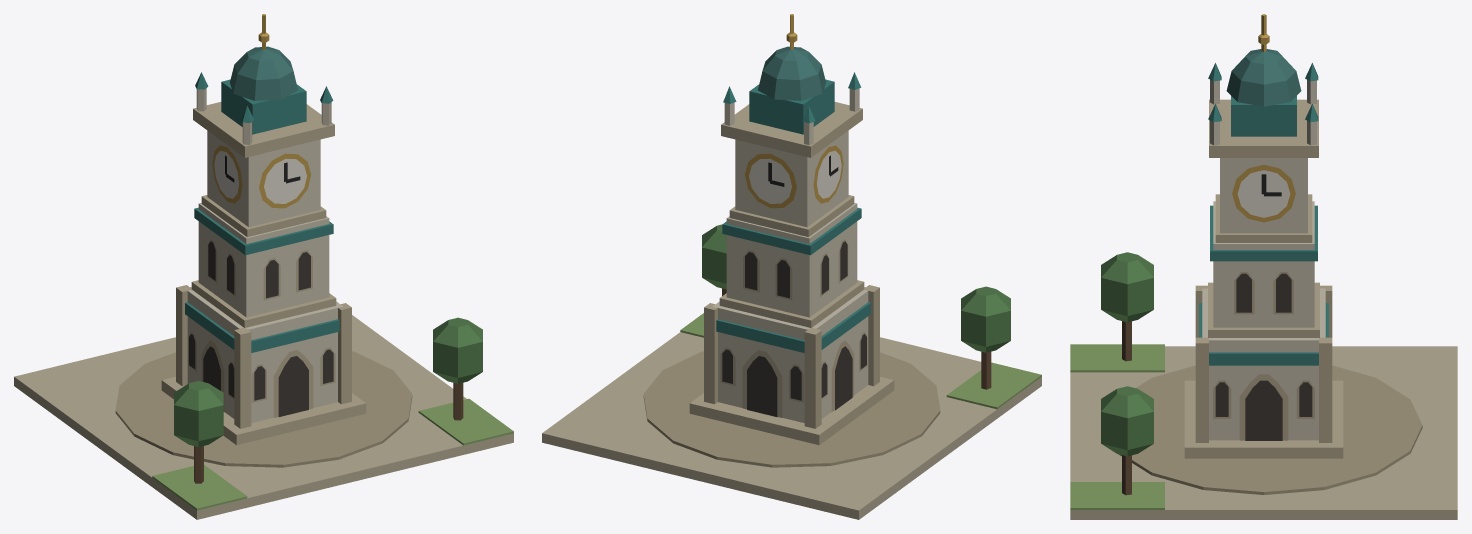
Rendered from konak.glb.
3 renders of one model, left to right at view 1: azimuth 30°, elevation 25°; view 2: azimuth 150°, elevation 25°; view 3: azimuth 270°, elevation 25°, orthographic. The views are drawn at different scales.
Parts seen in each view (by area): view 1: konak; view 2: konak; view 3: konak.
Part boxes in pixels (<box>): konak: <box>14,14,513,519</box>; konak: <box>542,14,1041,519</box>; konak: <box>1070,14,1457,519</box>.
Bounding box in the file's own units: 1.76 × 2.12 × 1.76.
